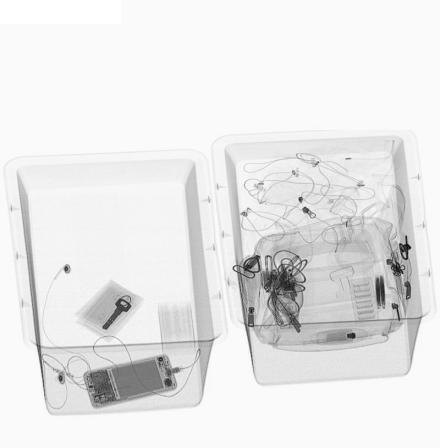Lighter: (388, 251, 404, 282)
